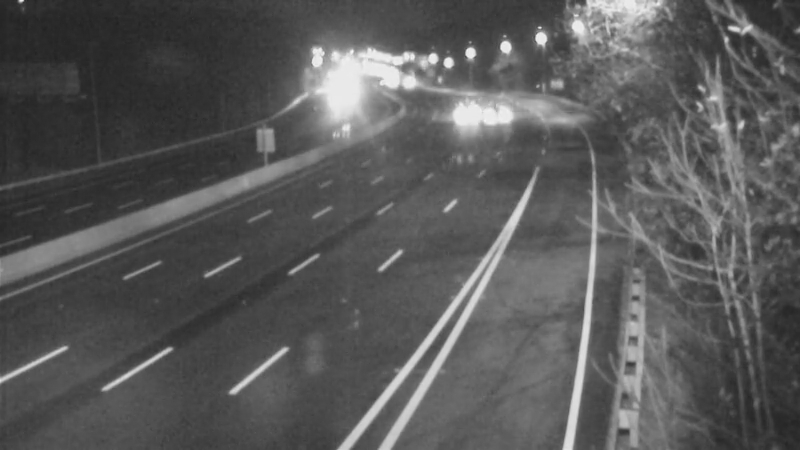vehicle: (384, 59, 434, 109), (434, 81, 484, 131), (478, 78, 528, 128)
